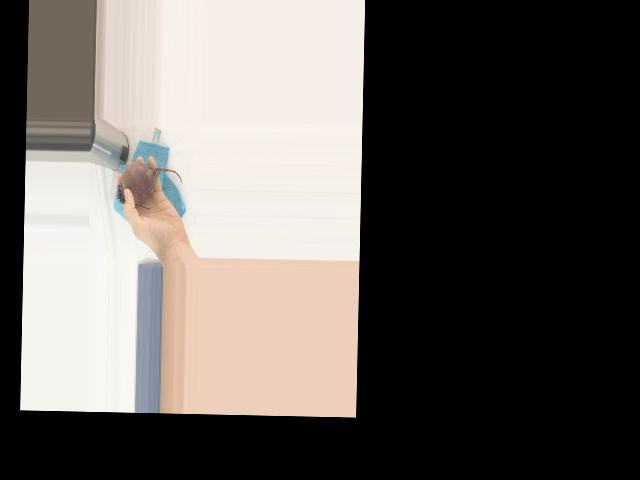beet: (116, 161, 183, 209)
